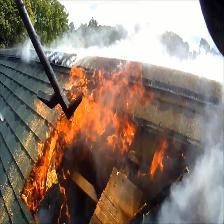fire: (83, 87, 115, 126), (39, 138, 59, 187), (57, 113, 83, 131)
smoke: (118, 32, 223, 74), (182, 173, 223, 224)
